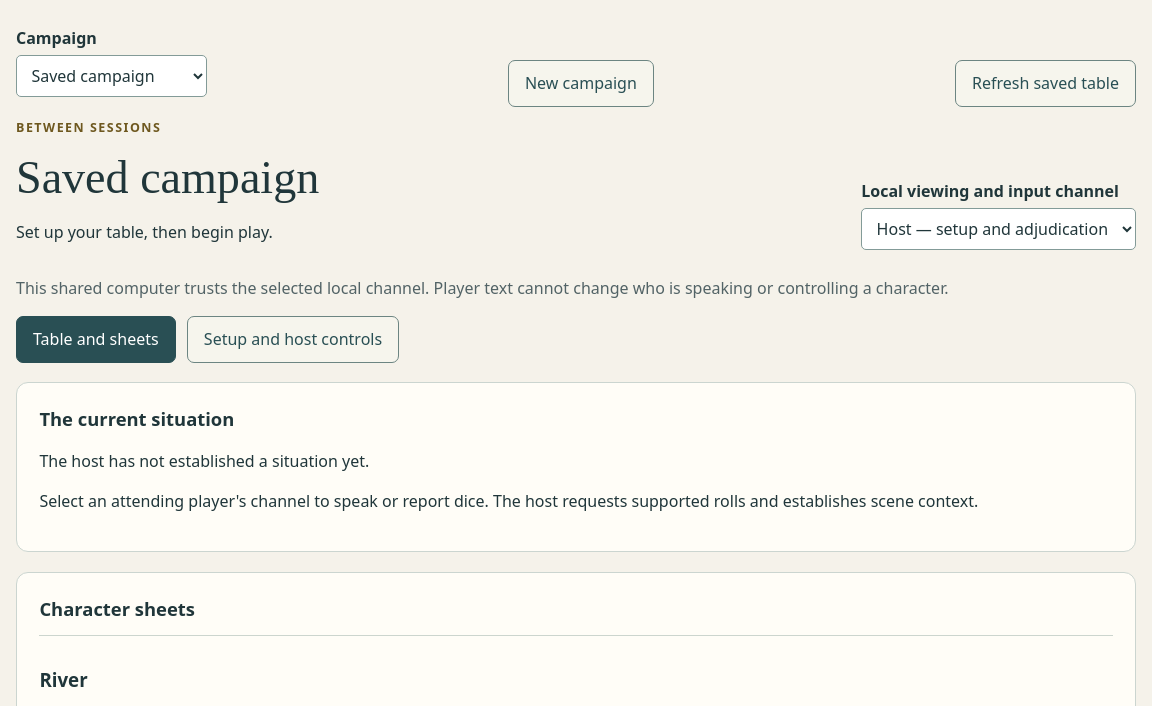
Test: durable UI retry › prepares a newly queried source without using the historical catalog
Click the button "Setup and host controls" at (293, 339), box [187, 316, 399, 363]
(page scrolled)
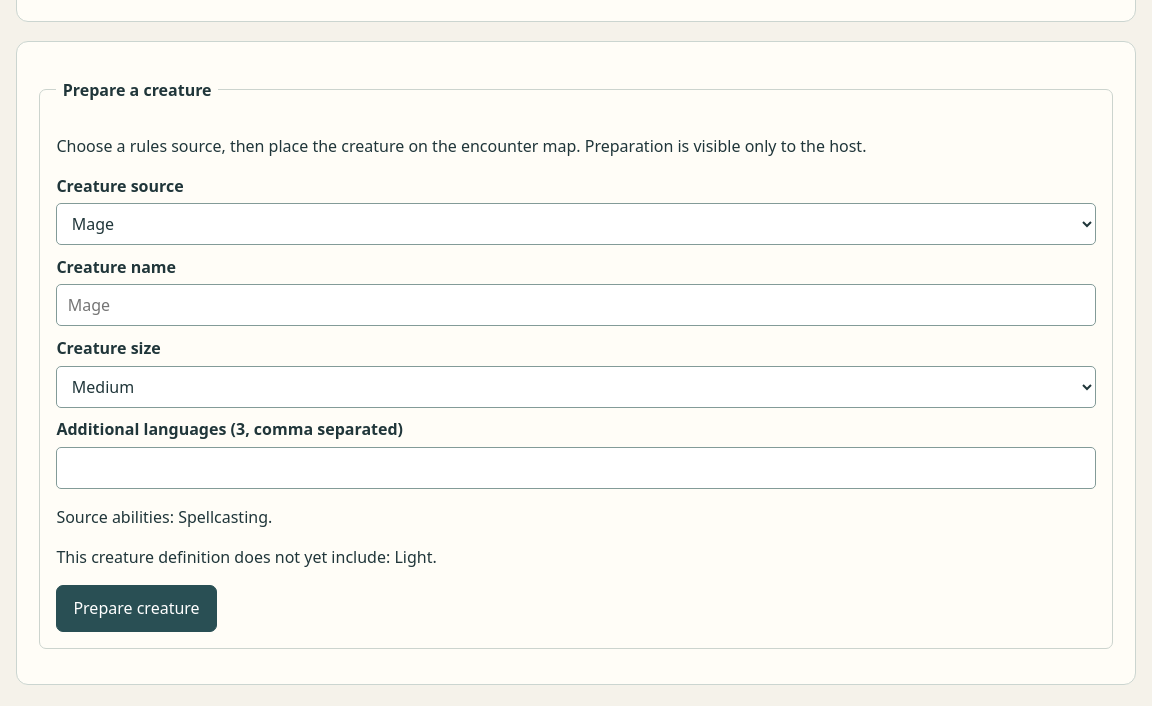
Type "dwarvish, elvish, draconic" into the field labelled "Additional languages (3, comma separated)" at (576, 468), box [56, 447, 1096, 489]
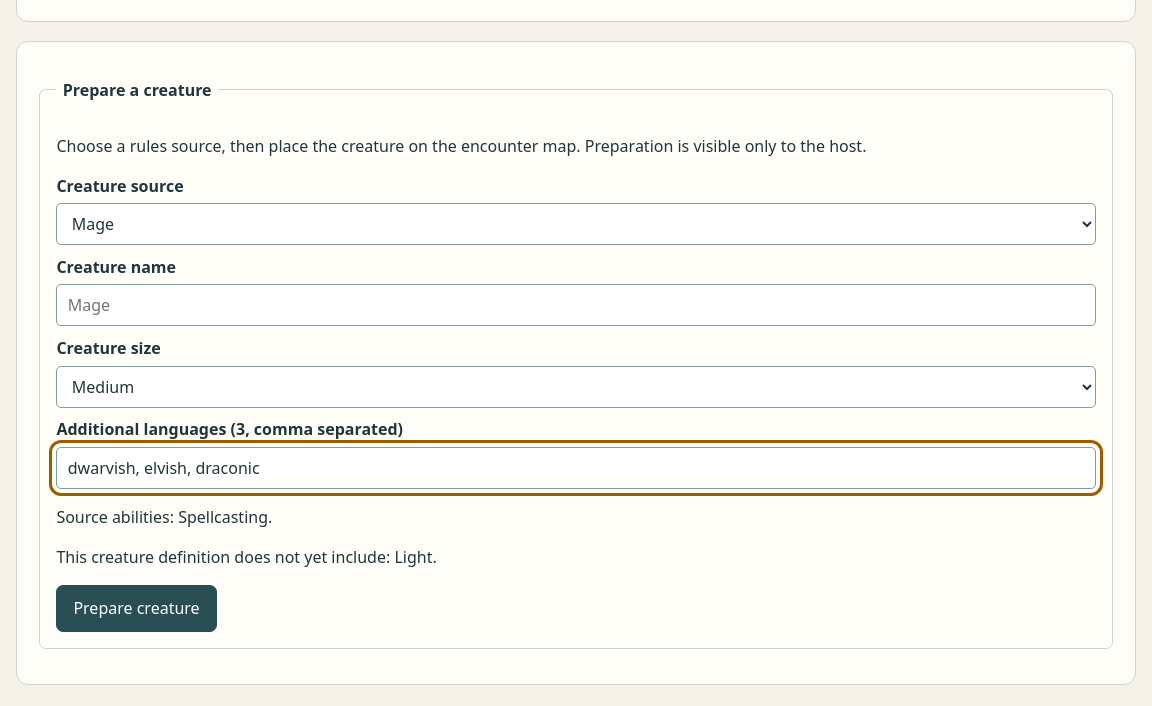
Click the button "Prepare creature" at (136, 608), box [56, 585, 217, 632]
(page scrolled)
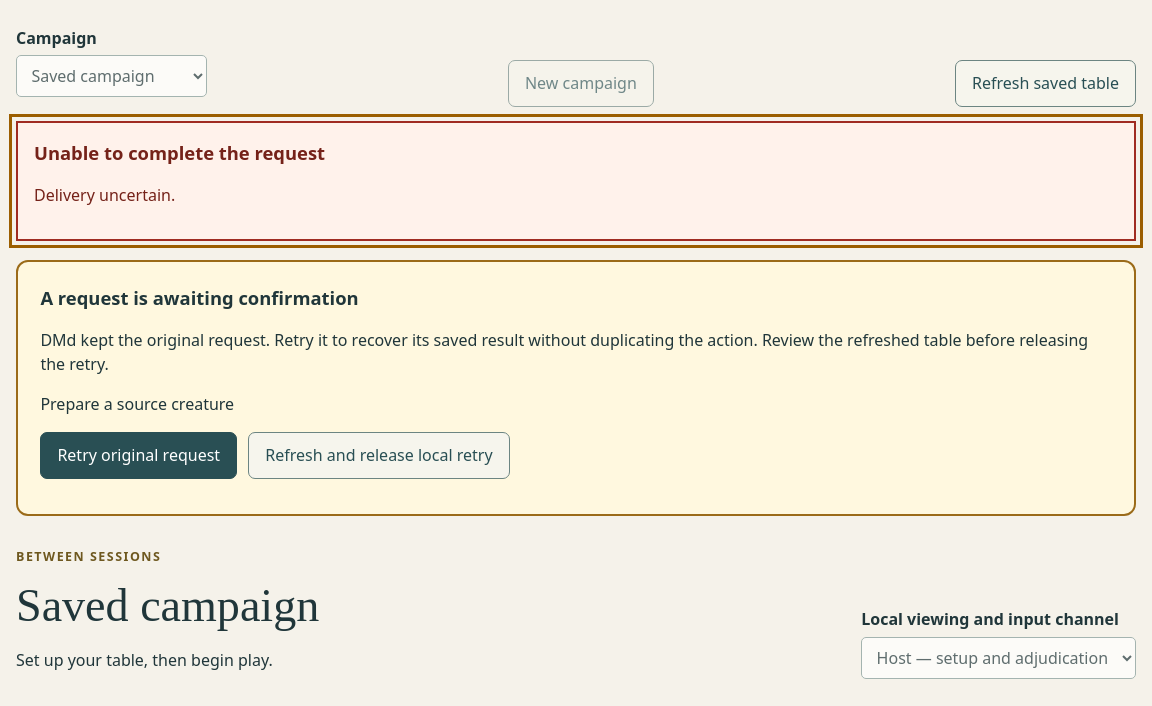
Expected: the message "Unable to complete the request Delivery uncertain." is shown, [16, 121, 1136, 241]
